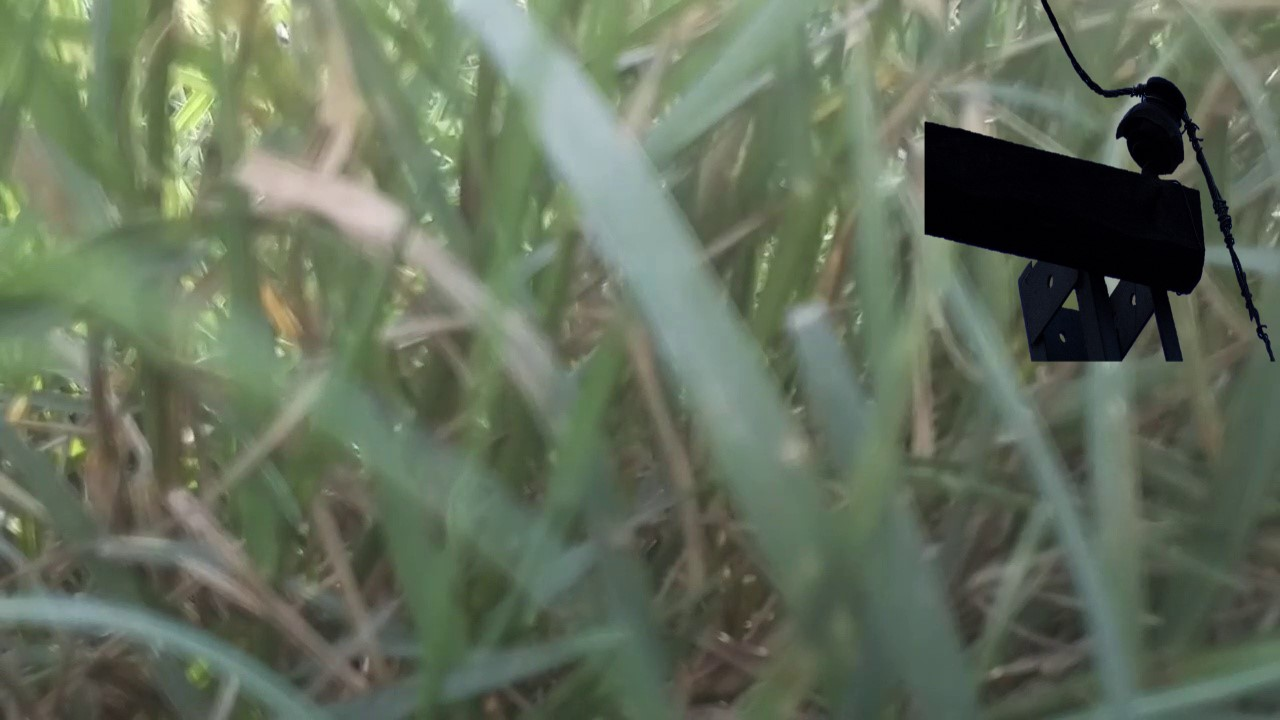defect_pin: (1116, 72, 1193, 177)
